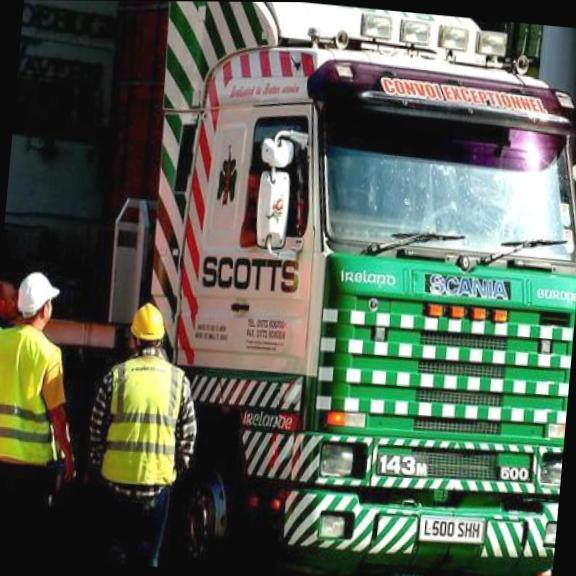safety_vest: (98, 354, 188, 491), (0, 320, 67, 463), (0, 325, 6, 452)
